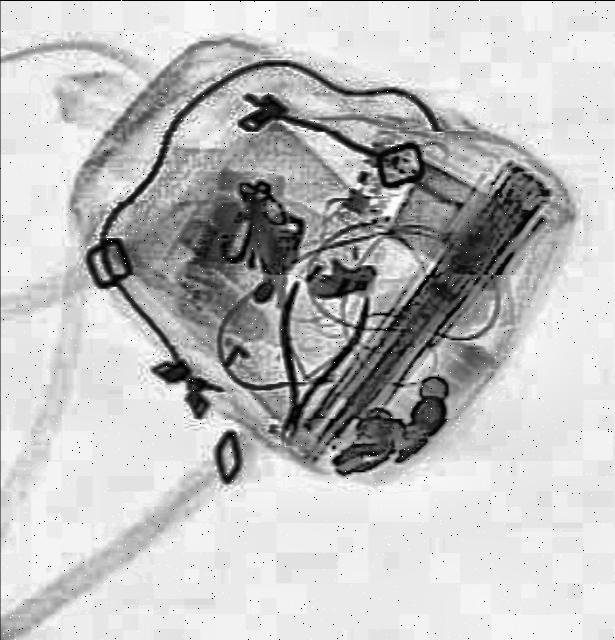Pliers: (242, 272, 370, 448)
